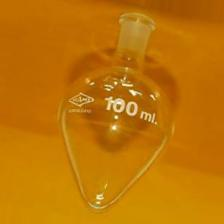Pear shaped flask: (27, 13, 180, 214)
